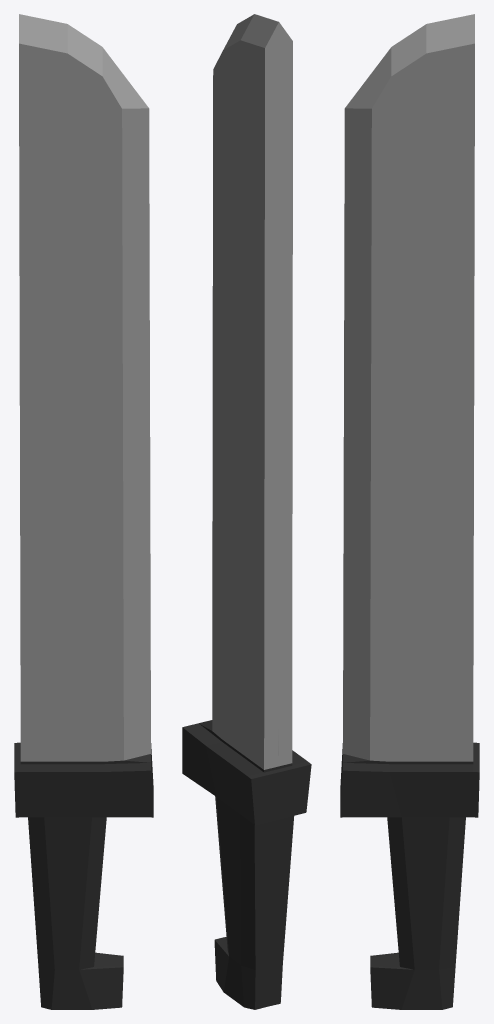
File: Machete.fbx
3 views of the same model, side by side, from view 1: azimuth 90°, elevation 25°; view 2: azimuth 210°, elevation 25°; view 3: azimuth 270°, elevation 25° (orthographic).
Parts seen in each view (by area): view 1: Cube.001; view 2: Cube.001; view 3: Cube.001.
Boxes of the visible parts, bbox=[...] form: Cube.001: bbox=[14, 14, 153, 1009]; Cube.001: bbox=[182, 14, 311, 1009]; Cube.001: bbox=[340, 14, 479, 1009].
Bounding box in the file's own units: 14.82 × 233 × 29.81.
